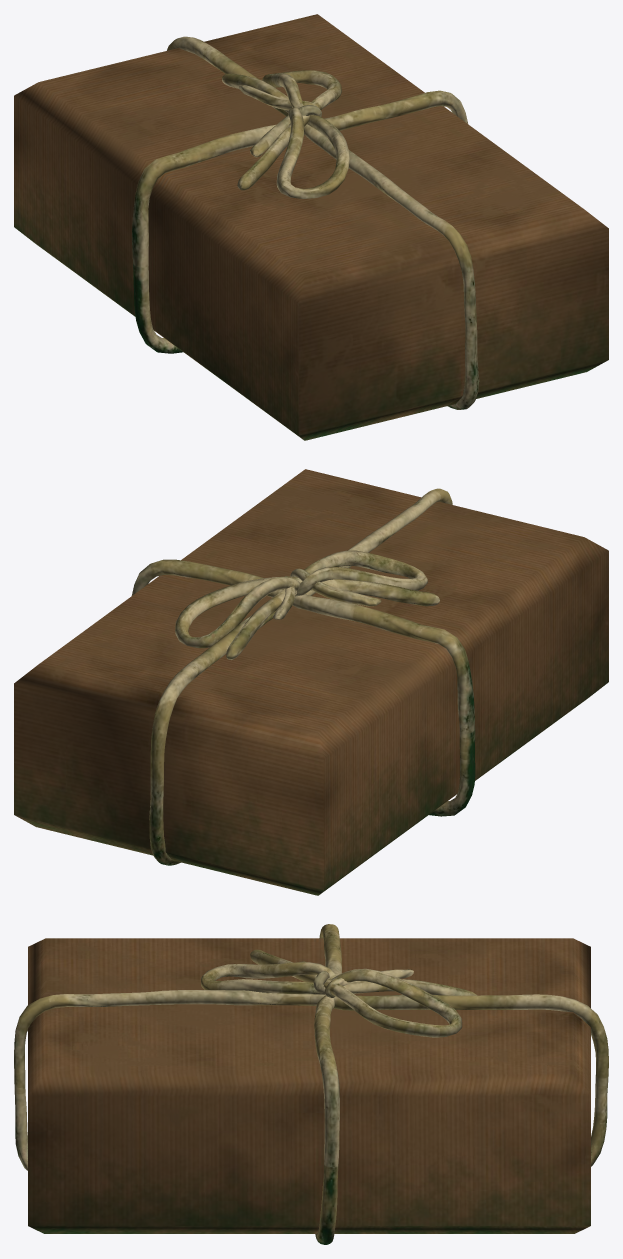
The model's file is package2.glb.
3 views of the same model, one above another, from view 1: azimuth 30°, elevation 25°; view 2: azimuth 150°, elevation 25°; view 3: azimuth 270°, elevation 25° (orthographic).
Visible parts, largest first — view 1: Package_Low, Strings_Low; view 2: Package_Low, Strings_Low; view 3: Package_Low, Strings_Low.
Part boxes in pixels (x1=…): Package_Low: x1=14, y1=14, x2=608, y2=440; Strings_Low: x1=132, y1=36, x2=479, y2=409; Package_Low: x1=14, y1=469, x2=608, y2=895; Strings_Low: x1=131, y1=488, x2=475, y2=865; Package_Low: x1=28, y1=938, x2=590, y2=1233; Strings_Low: x1=14, y1=924, x2=608, y2=1244.
Bounding box in the file's own units: 1.3 × 0.8131 × 2.
1 material, 1 textured.
